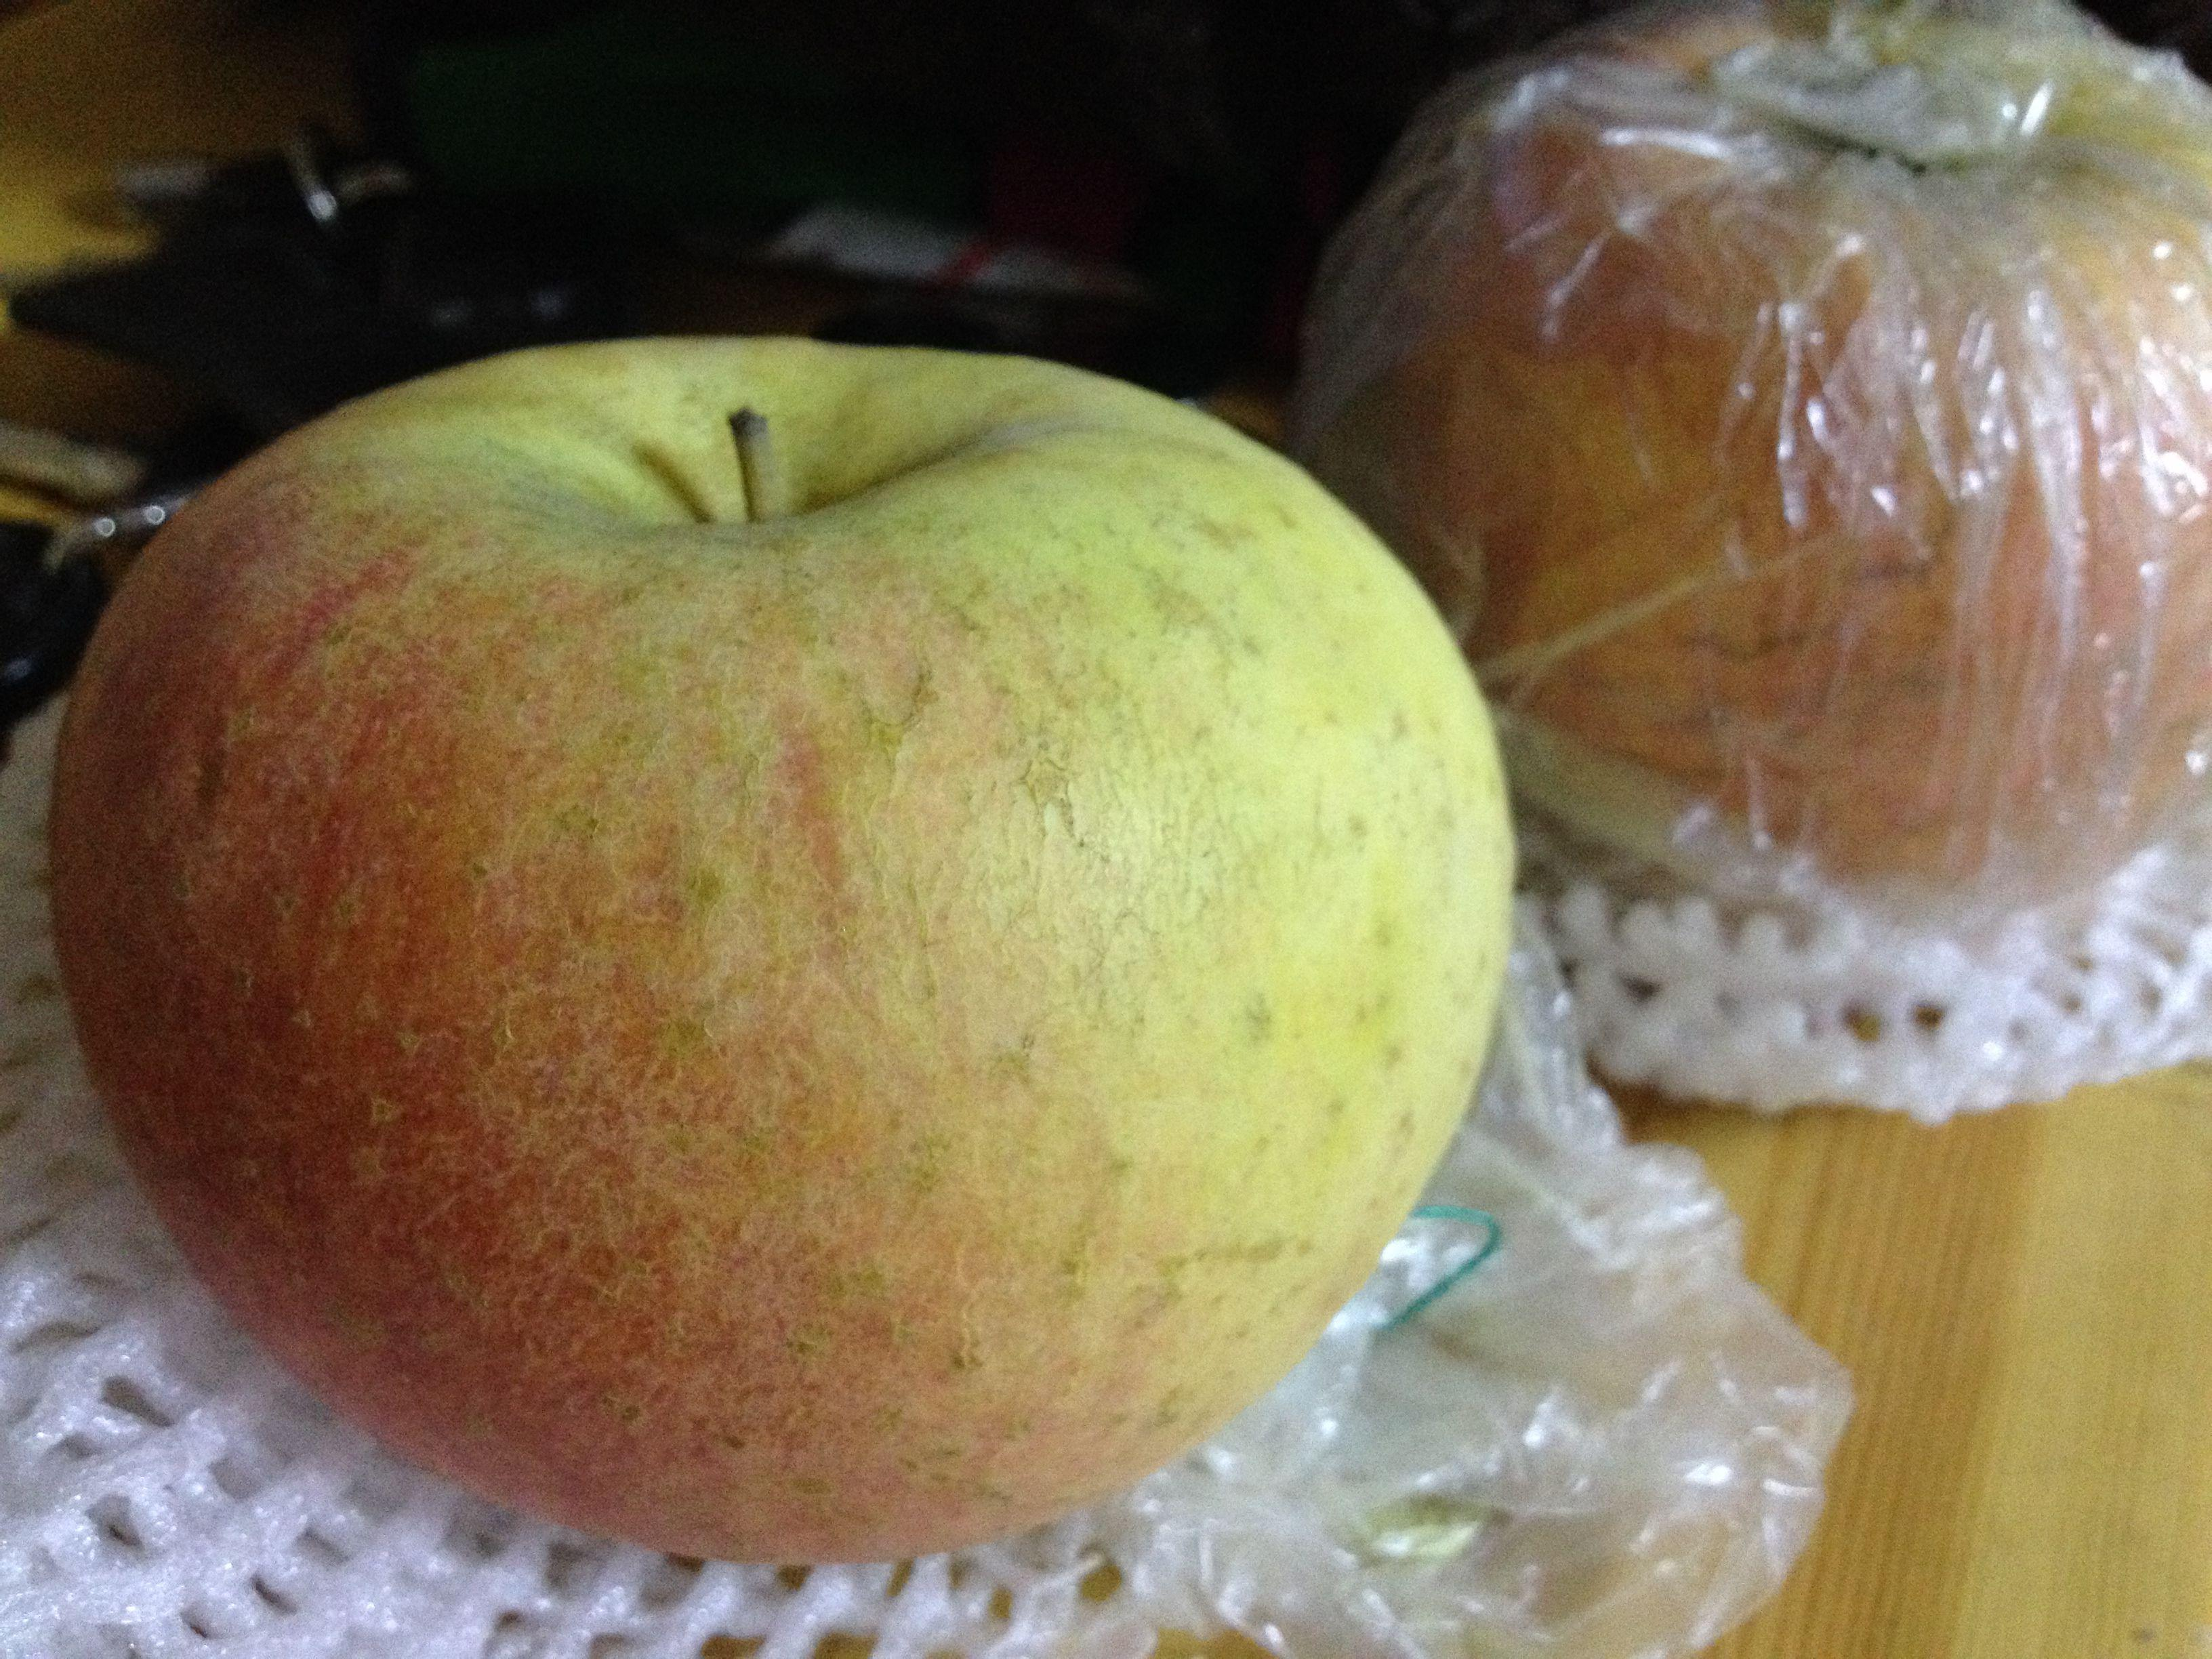apple: (40, 340, 1510, 1561), (1301, 21, 2212, 910)
